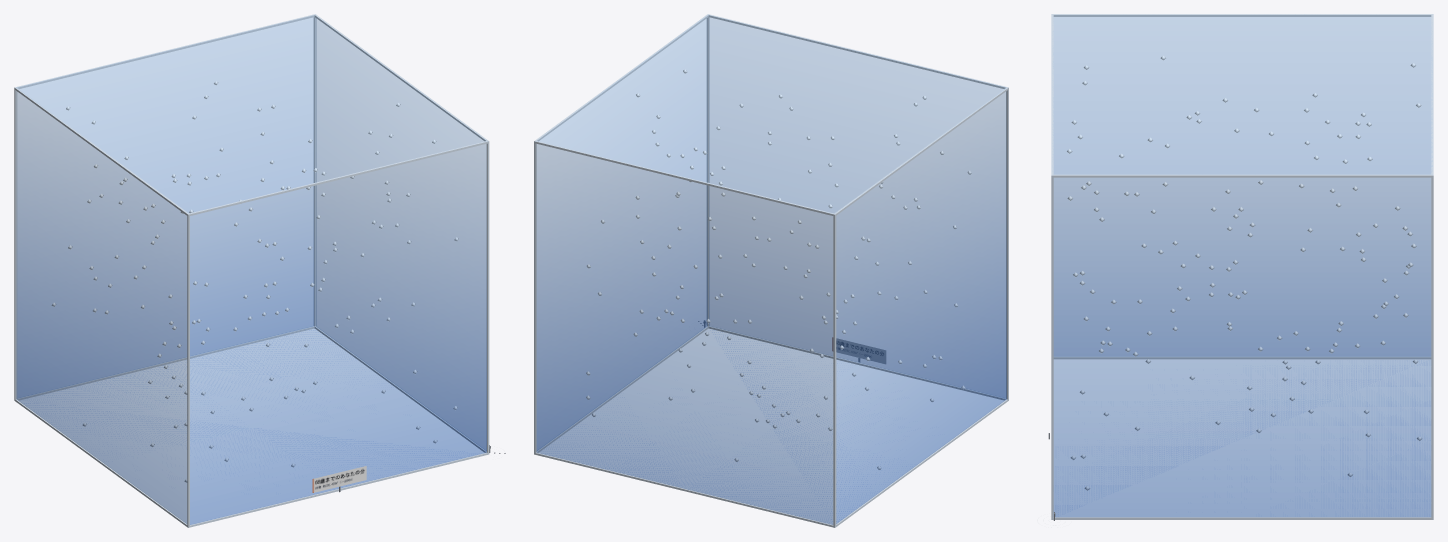
File: cube_life_68.glb
3 views of the same model, side by side, from view 1: azimuth 30°, elevation 25°; view 2: azimuth 150°, elevation 25°; view 3: azimuth 270°, elevation 25° (orthographic). The views are drawn at different scales.
Parts seen in each view (by area): view 1: co2, edge, dots, label; view 2: co2, edge, dots, label; view 3: co2, edge, dots.
Boxes of the visible parts, <box> form: co2: <box>16,15,486,524</box>; edge: <box>14,14,489,527</box>; dots: <box>52,81,458,482</box>; label: <box>312,466,366,492</box>; co2: <box>536,15,1006,524</box>; edge: <box>534,14,1008,527</box>; dots: <box>586,69,971,469</box>; label: <box>832,337,885,363</box>; co2: <box>1053,15,1432,516</box>; edge: <box>1051,14,1433,519</box>; dots: <box>1067,55,1421,490</box>.
Size of the model in its own units: 70.14 by 66.38 by 69.24.
8 materials, 3 textured.
